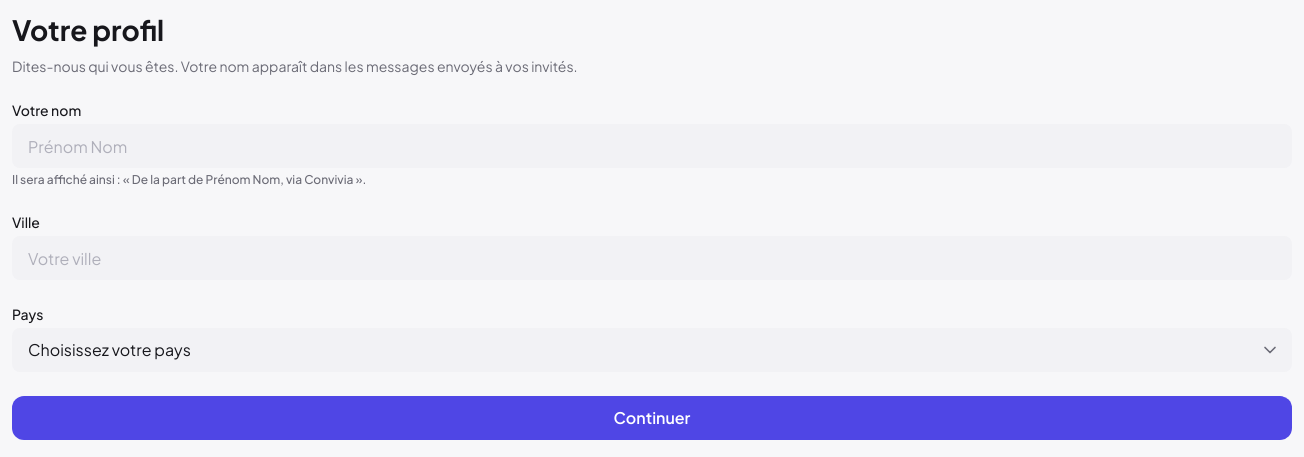
it: ProfileForm › montre en direct comment le nom sera affiché
Expected: the text "Il sera affiché ainsi : « De la part de Prénom Nom, via Convivia »." is shown, [12,172,366,187]
Type "Awa Kossi" into the field labelled "Votre nom" at (652, 146), box [12,124,1292,168]
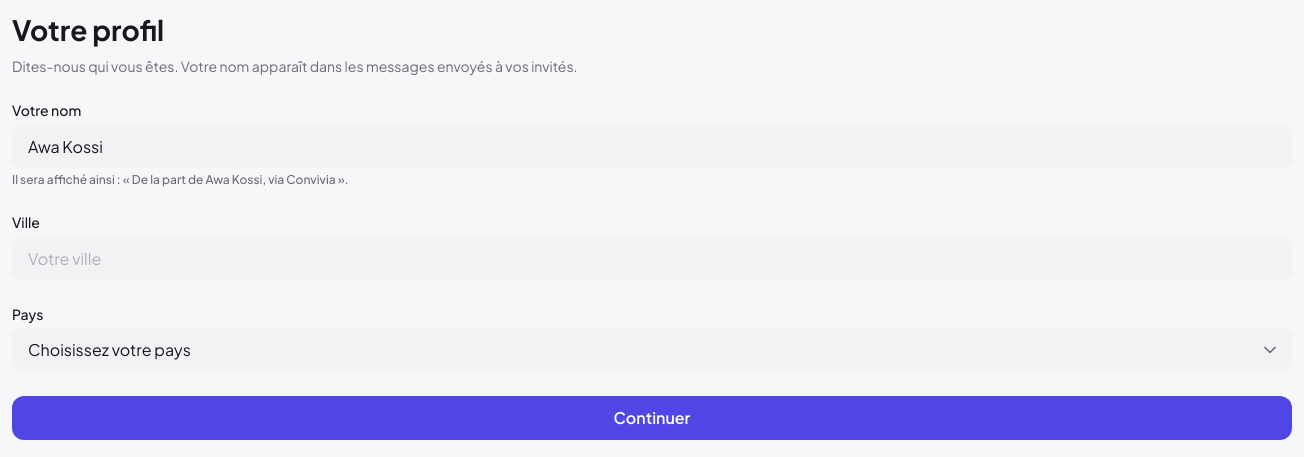
Now the text "Il sera affiché ainsi : « De la part de Awa Kossi, via Convivia »." is shown, box [12,172,348,187]
